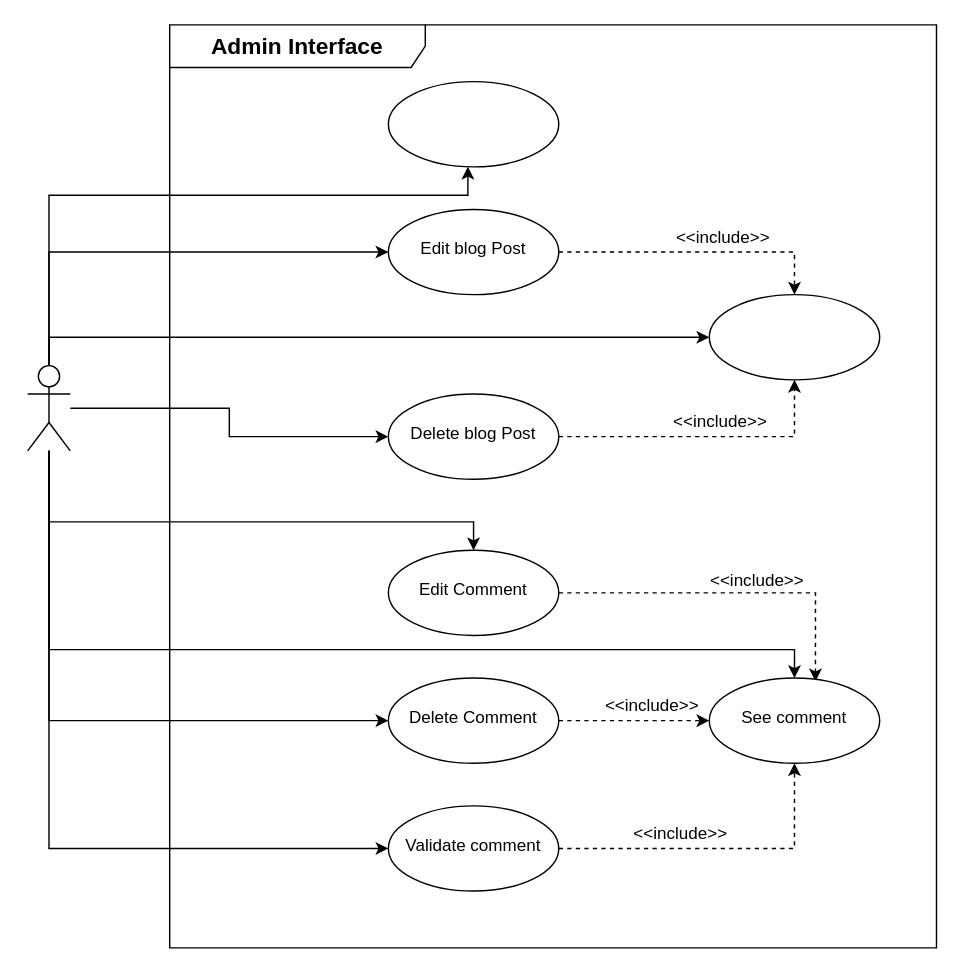
Image size: 961x973. Some labels were removed from this diagram. The shapes that lost their labels are listed below. From the top down, each one's centre as x and y in pixels, then its label:
At point 473,123: "Add blog post".
At point 794,336: "See blog Post".
At point 48,407: "Admin".
